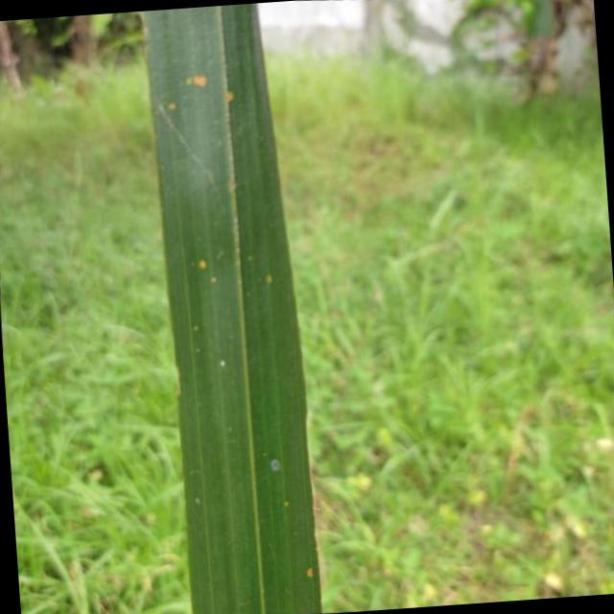Kalium: (144, 0, 320, 614)
